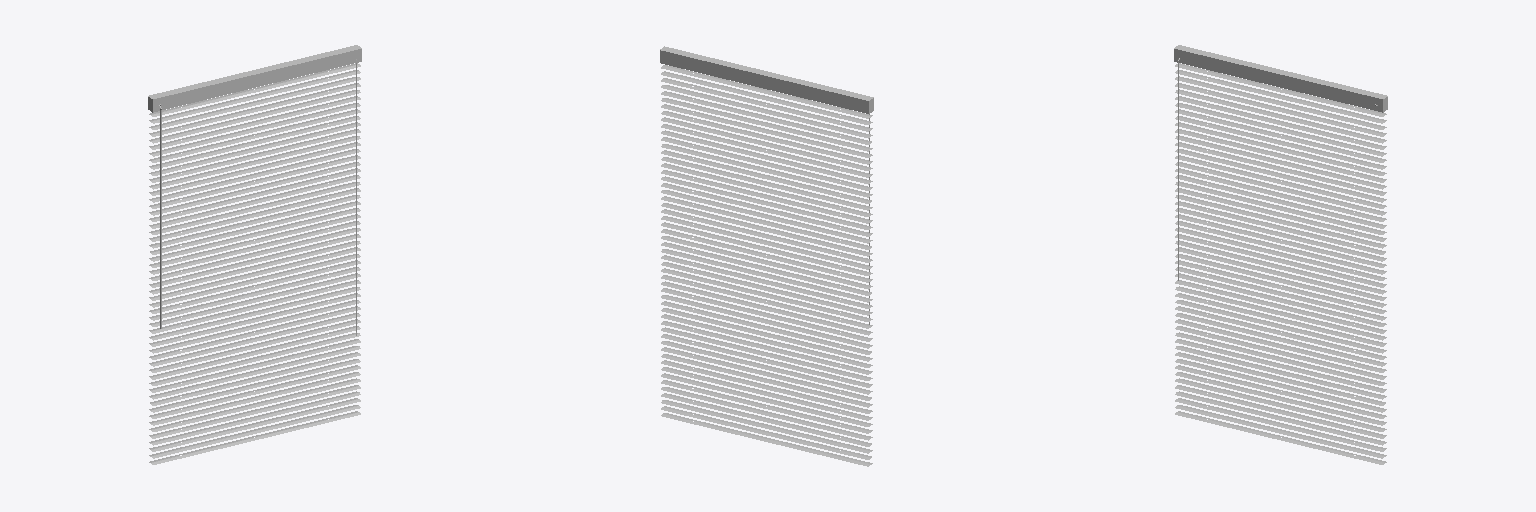
The model's file is curtain.obj.
3 renders of one model, left to right at view 1: azimuth 30°, elevation 25°; view 2: azimuth 150°, elevation 25°; view 3: azimuth 330°, elevation 25°, orthographic.
Parts seen in each view (by area): view 1: Venetian_slats; view 2: Venetian_slats; view 3: Venetian_slats.
Part boxes in pixels (x1,y1,x2,y2): Venetian_slats: (148,45,361,464); Venetian_slats: (660,46,873,466); Venetian_slats: (1174,45,1387,464).
Bounding box in the file's own units: 1 × 1.67 × 0.0599.